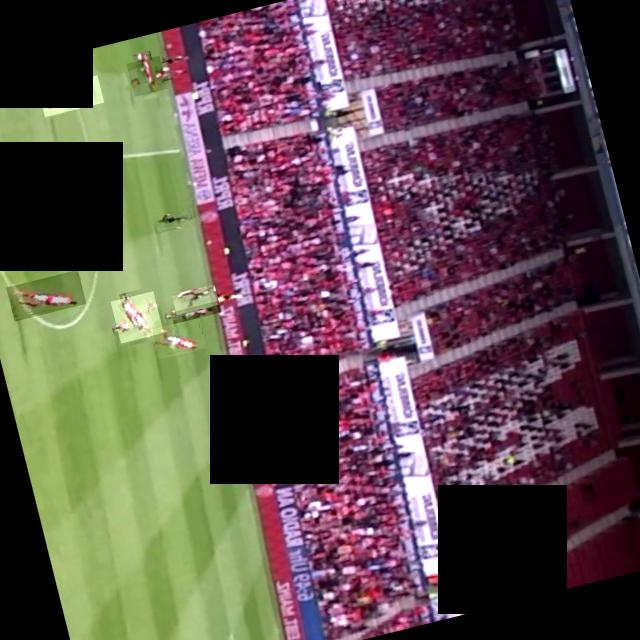soccer-player: (5, 268, 86, 320), (6, 198, 81, 248), (110, 290, 163, 342), (38, 74, 104, 115), (150, 316, 206, 358), (126, 54, 167, 95), (171, 282, 219, 314), (151, 206, 195, 233), (170, 300, 220, 322)
